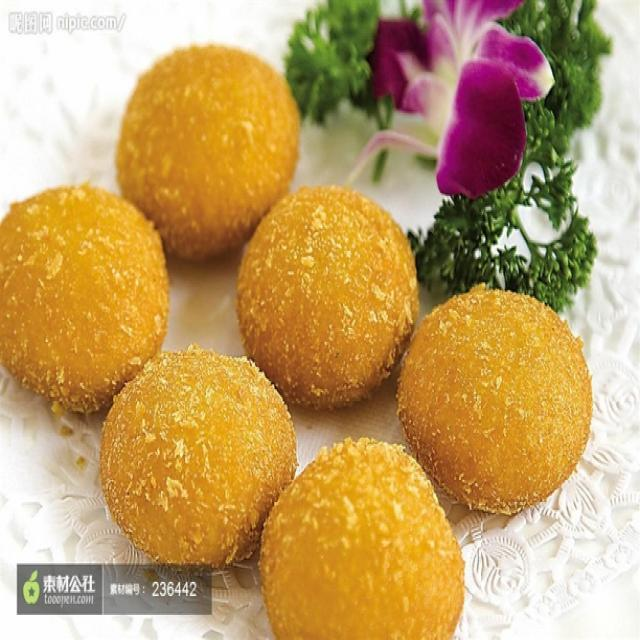炸货点心: (1, 16, 614, 634)
蛋糕甜品: (1, 16, 614, 634)
